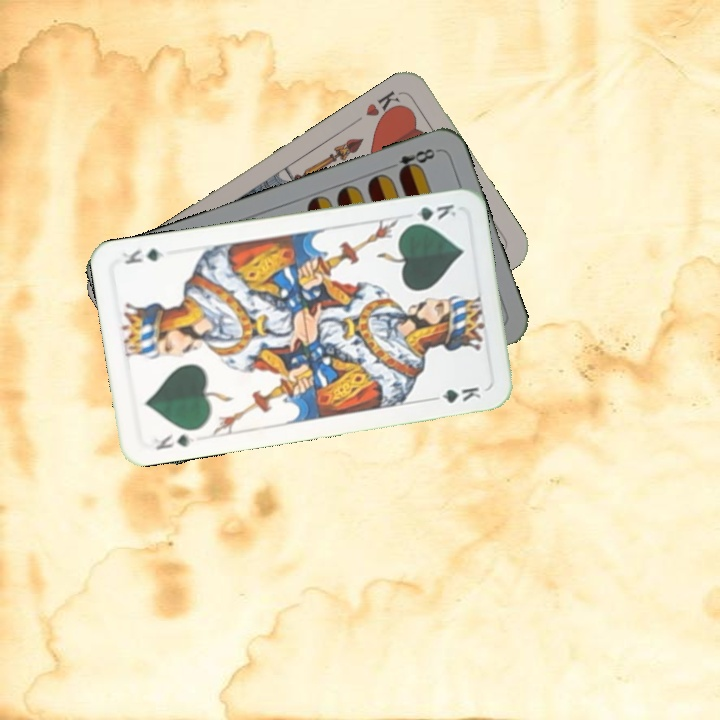E8: (383, 144, 438, 178)
GK: (403, 200, 459, 228), (149, 428, 198, 453)
HK: (362, 86, 406, 125)
